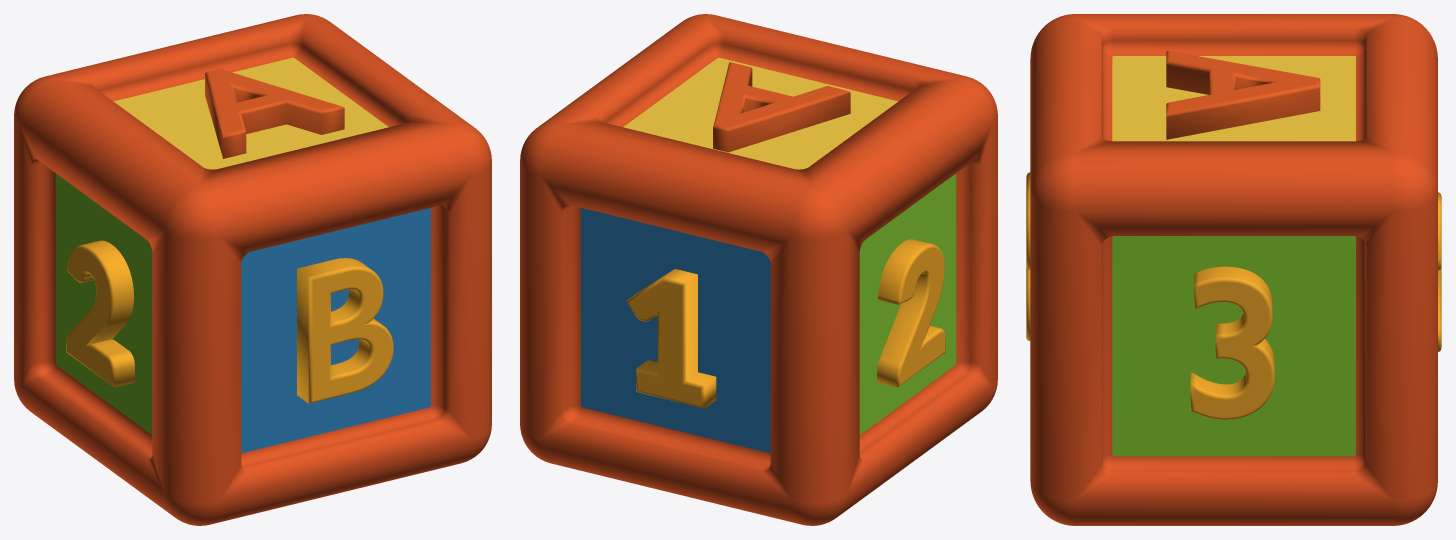
File: toy_block.glb
3 renders of one model, left to right at view 1: azimuth 30°, elevation 25°; view 2: azimuth 150°, elevation 25°; view 3: azimuth 270°, elevation 25°, orthographic. The views are drawn at different scales.
Visible parts, largest first — view 1: BlockBody, Panel_Blue_Y_neg, Panel_Green_X_neg, Letter_B, Panel_TopYellow, Letter_2, Letter_A; view 2: BlockBody, Panel_Blue_Y_pos, Panel_Green_X_neg, Panel_TopYellow, Letter_2, Letter_1, Letter_A; view 3: BlockBody, Panel_Green_X_pos, Panel_TopYellow, Letter_A, Letter_3, Letter_B, Letter_1.
Part boxes in pixels (x1,y1,x2,y2): BlockBody: (14, 14, 491, 525); Panel_Blue_Y_neg: (241, 208, 430, 453); Panel_Green_X_neg: (55, 173, 152, 434); Letter_B: (297, 258, 393, 403); Panel_TopYellow: (113, 57, 388, 169); Letter_2: (66, 240, 134, 387); Letter_A: (205, 69, 344, 158); BlockBody: (520, 14, 997, 525); Panel_Blue_Y_pos: (581, 208, 770, 453); Panel_Green_X_neg: (859, 173, 956, 434); Panel_TopYellow: (623, 57, 898, 169); Letter_2: (877, 239, 945, 387); Letter_1: (626, 269, 716, 408); Letter_A: (713, 62, 850, 152); BlockBody: (1030, 14, 1437, 525); Panel_Green_X_pos: (1112, 236, 1355, 456); Panel_TopYellow: (1112, 56, 1355, 141); Letter_A: (1166, 50, 1320, 139); Letter_3: (1190, 266, 1274, 419); Letter_B: (1026, 172, 1030, 340); Letter_1: (1438, 192, 1441, 351).
Size of the model in its own units: 2.04 by 2.04 by 2.04.
